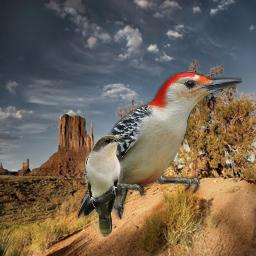Cuckoo: (85, 135, 129, 239)
Woodpecker: (75, 72, 242, 220)
